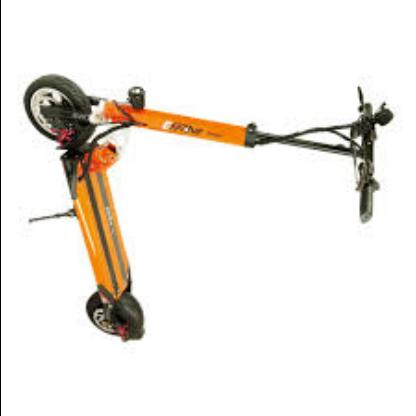bike: (24, 72, 403, 342), (23, 73, 149, 343)
